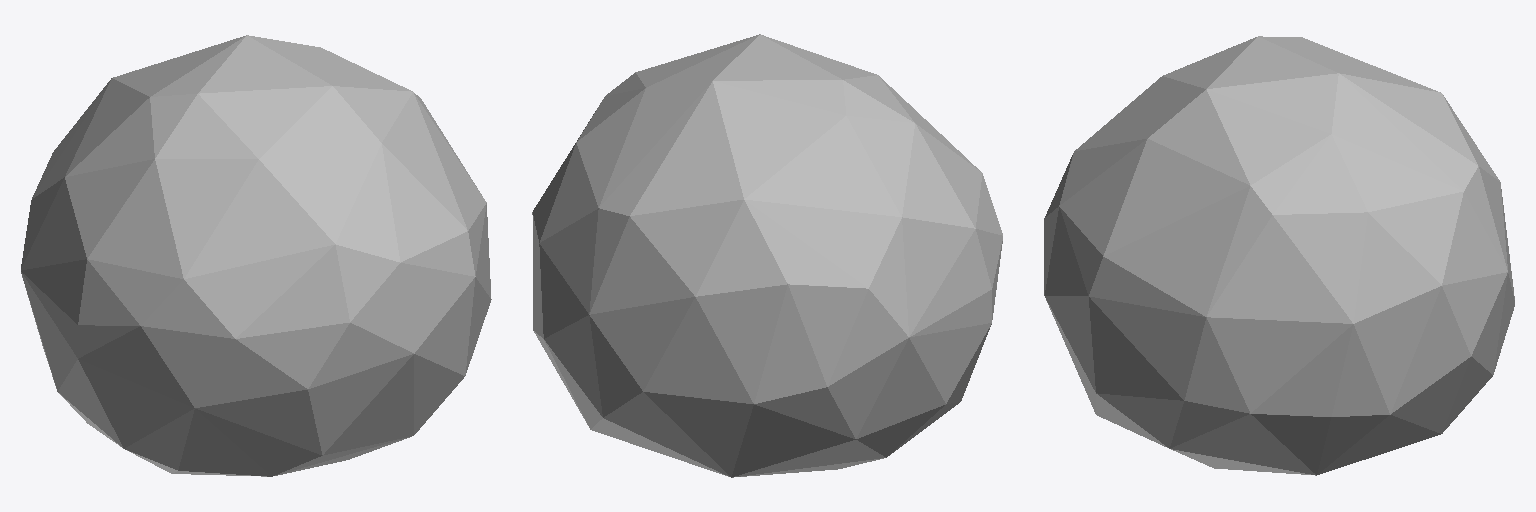
The robot description file, URDF, robot "root":
<robot name="root">
  <link name="link_ycb~056_tennis_ball_convex_piece_0">
    <inertial>
      <origin xyz="0 0 0" rpy="0 0 0"/>
      <mass value="6.40E-01"/>
      <inertia ixx="2.92E-04" ixy="-2.53E-06" ixz="-6.77E-07" iyy="2.89E-04" iyz="-2.35E-06" izz="3.25E-04"/>
    </inertial>
    <visual>
      <origin xyz="0 0 0" rpy="0 0 0"/>
      <geometry>
        <mesh filename="ycb~056_tennis_ball_convex_piece_0.obj" scale="1.0000E+00 1.0000E+00 1.0000E+00"/>
      </geometry>
      <material name="">
        <color rgba="7.50E-01 7.50E-01 7.50E-01 1"/>
      </material>
    </visual>
    <collision>
      <origin xyz="0 0 0" rpy="0 0 0"/>
      <geometry>
        <mesh filename="ycb~056_tennis_ball_convex_piece_0.obj" scale="1.0000E+00 1.0000E+00 1.0000E+00"/>
      </geometry>
    </collision>
  </link>
</robot>

--- Render facts (derived) ---
3 views of the same robot in one strip: view 1: azimuth 30°, elevation 25°; view 2: azimuth 150°, elevation 25°; view 3: azimuth 270°, elevation 25° (orthographic).
Model root with 1 links and 0 joints (none), rooted at link_ycb~056_tennis_ball_convex_piece_0, posed every joint at zero.
Links seen in each view (by area): view 1: link_ycb~056_tennis_ball_convex_piece_0; view 2: link_ycb~056_tennis_ball_convex_piece_0; view 3: link_ycb~056_tennis_ball_convex_piece_0.
Boxes of the visible links, x1=… form: link_ycb~056_tennis_ball_convex_piece_0: x1=21, y1=35, x2=491, y2=476; link_ycb~056_tennis_ball_convex_piece_0: x1=532, y1=34, x2=1002, y2=477; link_ycb~056_tennis_ball_convex_piece_0: x1=1044, y1=36, x2=1514, y2=475.
Size in the robot's own frame: 0.0705 by 0.0716 by 0.0627 metres.
1 mesh visuals loaded from 1 distinct referenced files (1 OBJ).